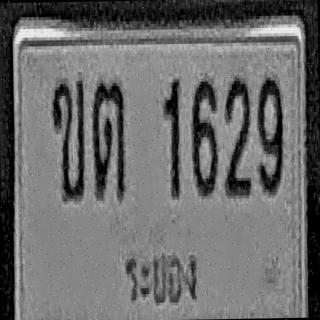A02: (50, 78, 86, 198)
A21: (91, 78, 125, 200)
N01: (162, 76, 181, 196)
N02: (222, 75, 252, 196)
N06: (190, 77, 218, 195)
N09: (256, 74, 284, 192)
P53: (120, 241, 200, 315)
